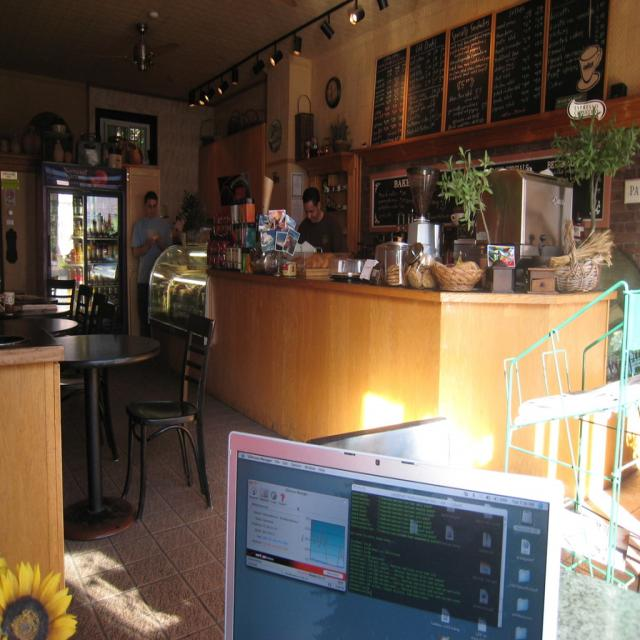chair: (503, 280, 639, 584), (121, 312, 216, 524)
desk: (19, 296, 187, 552)
laptop: (224, 429, 560, 639)
person: (130, 191, 172, 335), (287, 187, 348, 254)
